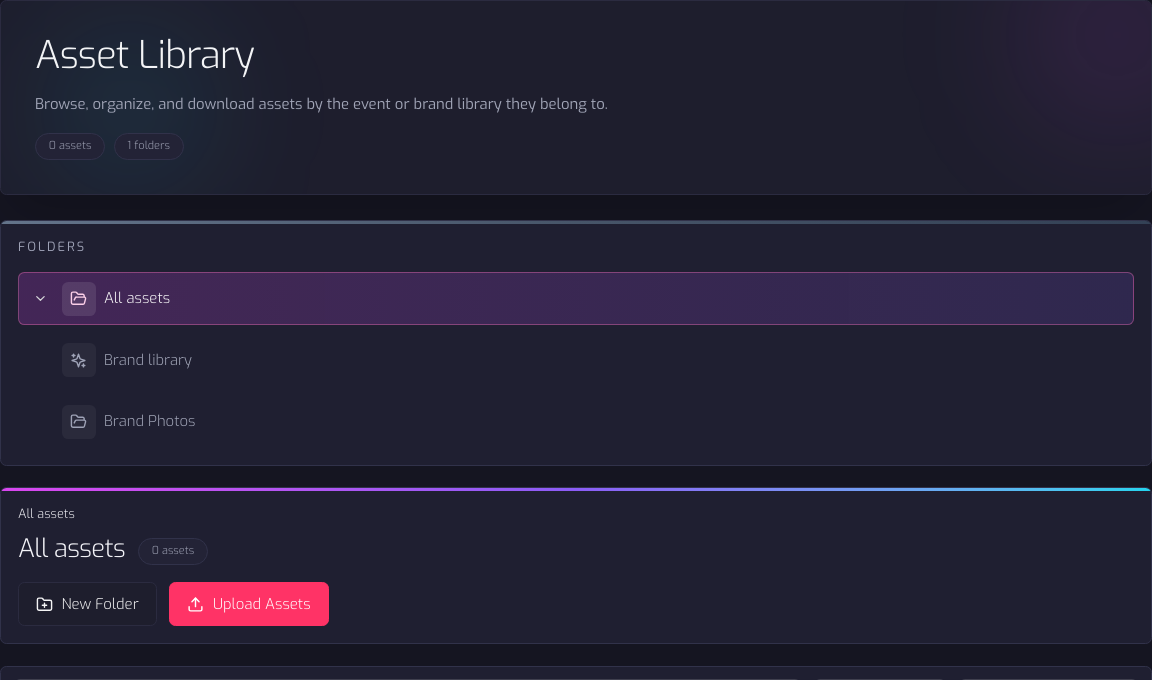
AssetLibraryView › deletes empty saved folders from the active folder header
Click the button "Brand Photos" at x=150, y=421, box [104, 411, 1124, 432]
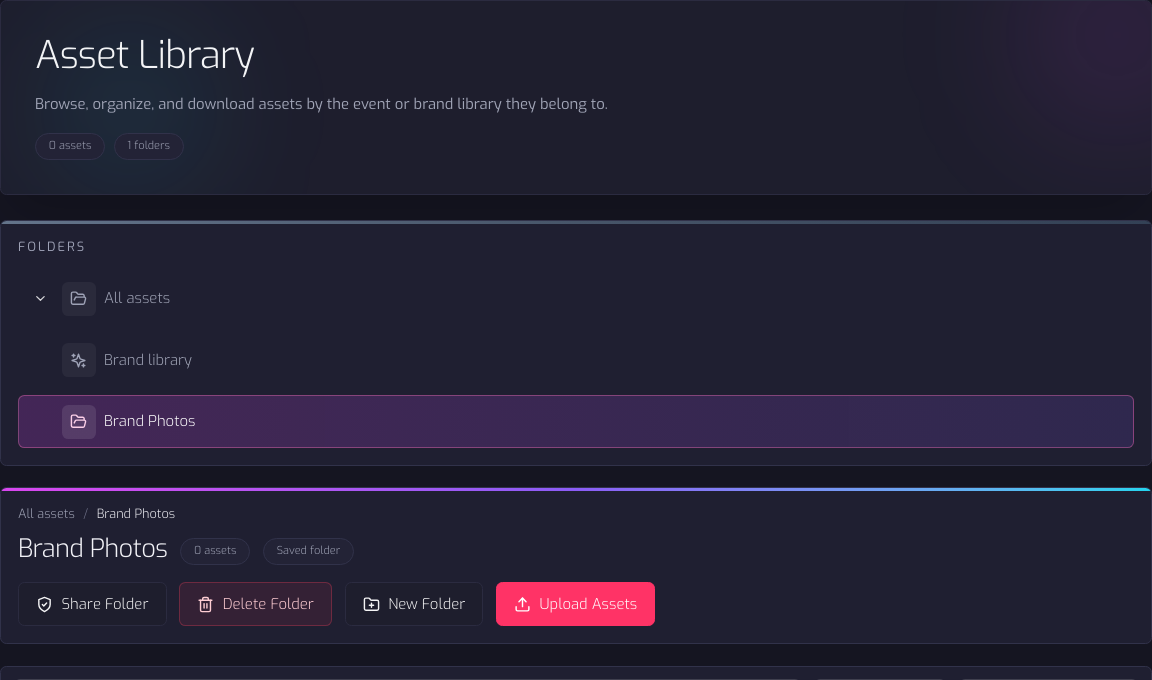
Click the button "Delete Folder" at x=256, y=604, box [179, 582, 332, 626]
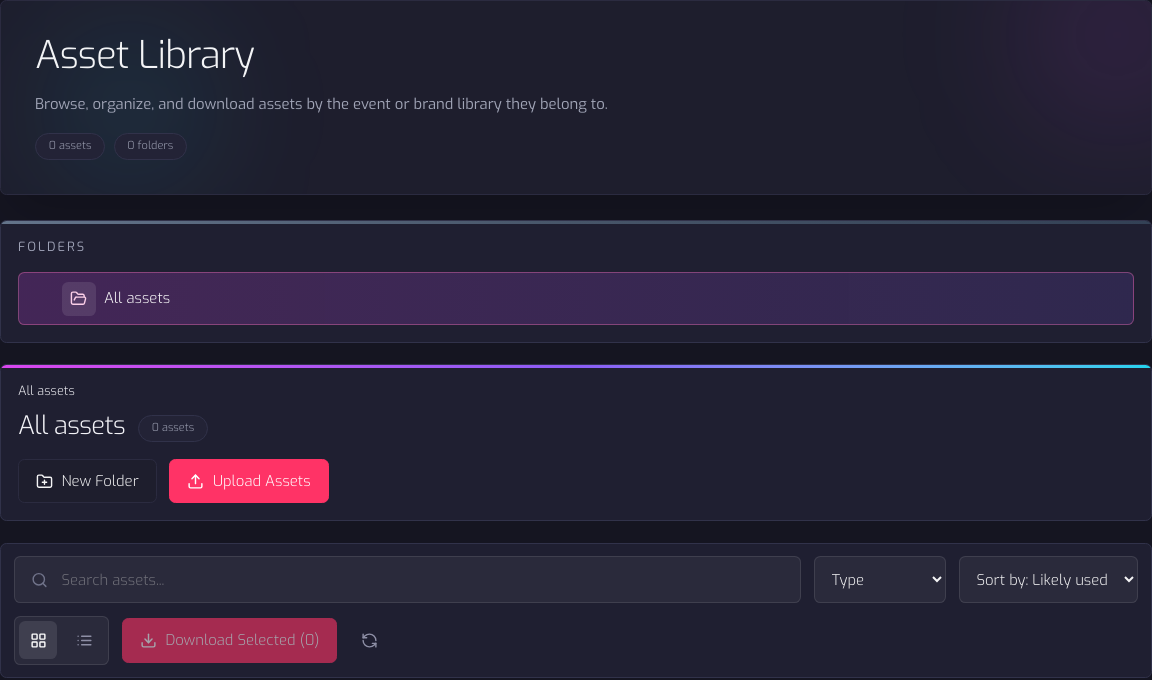
Now the button "Delete Folder" is gone
